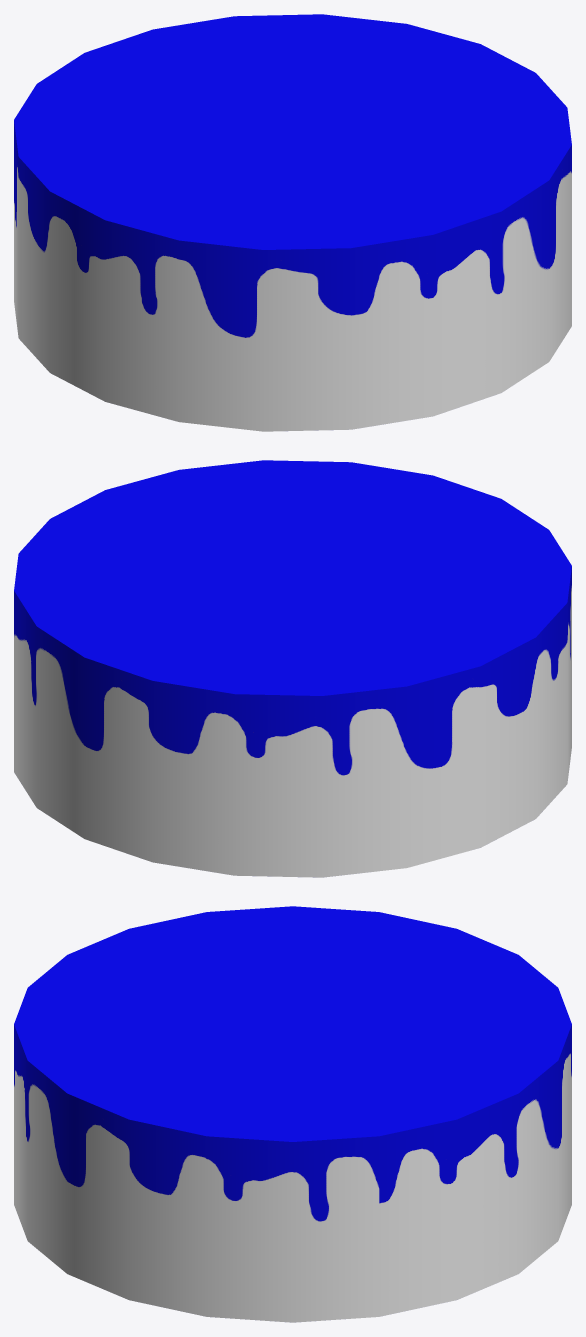
The model's file is BlueMedium.fbx.
3 renders of one model, top to bottom at view 1: azimuth 30°, elevation 25°; view 2: azimuth 150°, elevation 25°; view 3: azimuth 270°, elevation 25°, orthographic.
Parts seen in each view (by area): view 1: BlueMedium; view 2: BlueMedium; view 3: BlueMedium.
Part boxes in pixels (<box>): BlueMedium: <box>14,14,571,431</box>; BlueMedium: <box>14,460,571,877</box>; BlueMedium: <box>14,906,571,1322</box>.
Bounding box in the file's own units: 700 × 250 × 700.
